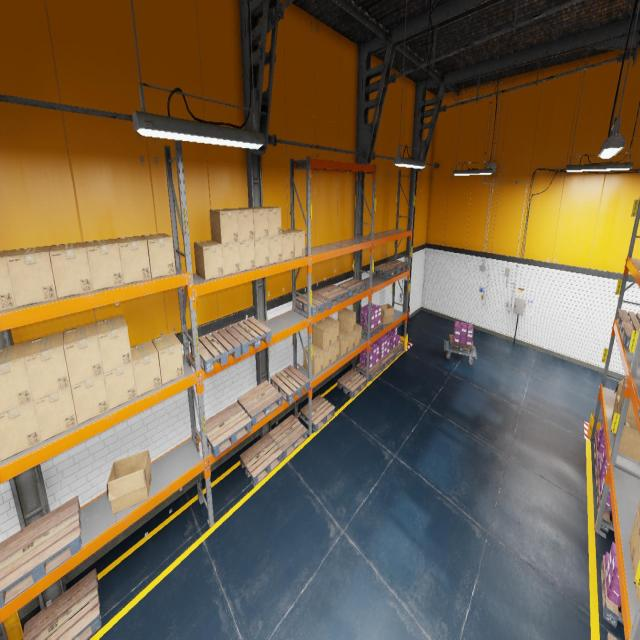box: (24, 331, 70, 401), (6, 245, 57, 307), (107, 449, 151, 514), (64, 322, 104, 386), (33, 384, 77, 441), (49, 242, 93, 298), (0, 401, 41, 461), (0, 341, 33, 414), (95, 314, 132, 372), (85, 239, 124, 290), (71, 374, 109, 424), (130, 340, 162, 397), (114, 236, 151, 284), (152, 332, 184, 384), (141, 233, 176, 278), (104, 362, 136, 410), (194, 240, 224, 280), (618, 416, 640, 462), (210, 209, 238, 244), (0, 250, 16, 311), (227, 208, 254, 241), (614, 404, 636, 439), (618, 378, 636, 420), (245, 207, 268, 239), (257, 206, 281, 236), (282, 229, 305, 258), (303, 343, 323, 376), (629, 509, 640, 565), (222, 242, 240, 276), (312, 320, 331, 350), (321, 316, 339, 345), (239, 240, 255, 272), (254, 237, 270, 267), (338, 307, 356, 333), (632, 538, 640, 592), (269, 235, 282, 264), (282, 230, 294, 260), (614, 377, 626, 406), (340, 329, 355, 352), (316, 346, 331, 369), (379, 304, 394, 324), (339, 329, 348, 357), (612, 394, 620, 422), (331, 341, 339, 364), (355, 323, 361, 347), (636, 586, 640, 605), (638, 500, 640, 521)
pallets: (0, 496, 82, 609), (22, 568, 102, 640), (205, 402, 252, 457), (190, 328, 241, 373), (240, 434, 282, 486), (237, 381, 282, 426), (224, 316, 271, 355), (268, 414, 307, 459), (600, 555, 623, 628), (270, 365, 310, 404), (300, 395, 335, 432), (337, 368, 367, 398), (596, 484, 614, 533), (296, 291, 331, 316), (314, 284, 349, 306), (620, 321, 640, 348), (356, 361, 383, 381), (338, 278, 366, 297), (616, 308, 640, 330), (449, 334, 474, 354), (358, 322, 383, 337), (372, 264, 398, 278), (383, 260, 409, 273), (379, 351, 394, 369), (594, 434, 602, 463), (390, 342, 404, 358), (595, 457, 600, 492), (606, 633, 618, 639), (638, 407, 640, 423)
